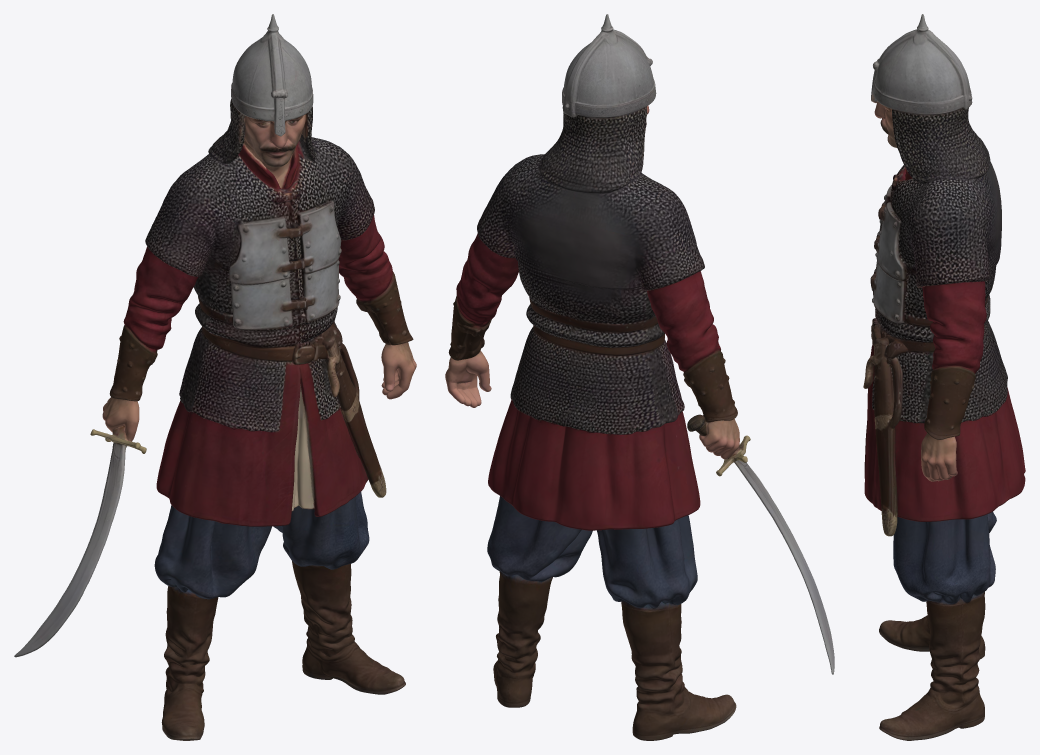
The model's file is cebelu-zirhli-kilicli-1550-1600-tripo-v1.glb.
3 renders of one model, left to right at view 1: azimuth 30°, elevation 25°; view 2: azimuth 150°, elevation 25°; view 3: azimuth 270°, elevation 25°, orthographic. The views are drawn at different scales.
Visible parts, largest first — view 1: tripo_node_23047594-1785-42ba-a8f1-c2db656edd24; view 2: tripo_node_23047594-1785-42ba-a8f1-c2db656edd24; view 3: tripo_node_23047594-1785-42ba-a8f1-c2db656edd24.
Part boxes in pixels (<box>): tripo_node_23047594-1785-42ba-a8f1-c2db656edd24: <box>14,14,416,740</box>; tripo_node_23047594-1785-42ba-a8f1-c2db656edd24: <box>445,14,834,740</box>; tripo_node_23047594-1785-42ba-a8f1-c2db656edd24: <box>863,14,1025,740</box>.
Size of the model in its own units: 0.5933 by 1 by 0.2183.
1 material, 1 textured.
